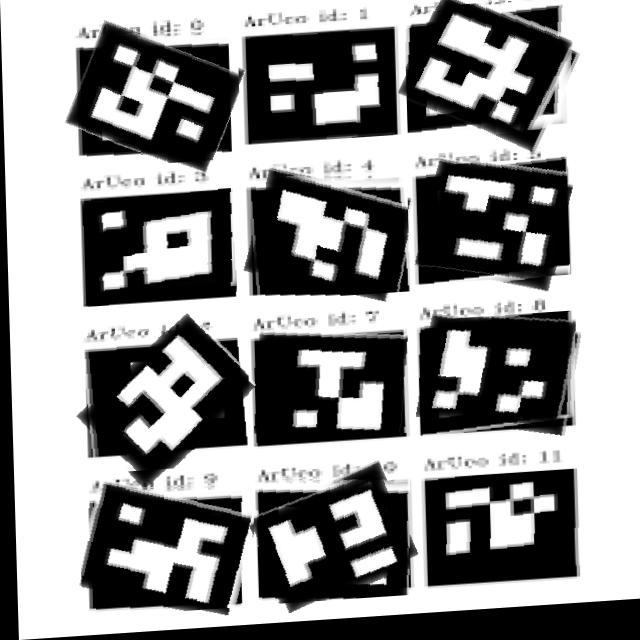aruco: (404, 5, 578, 153), (79, 329, 249, 476), (69, 28, 240, 171), (76, 482, 253, 619), (245, 171, 408, 305), (253, 474, 409, 608), (415, 319, 577, 444), (417, 165, 568, 298), (251, 329, 406, 446), (82, 193, 241, 307), (426, 476, 581, 590), (249, 33, 394, 148)
